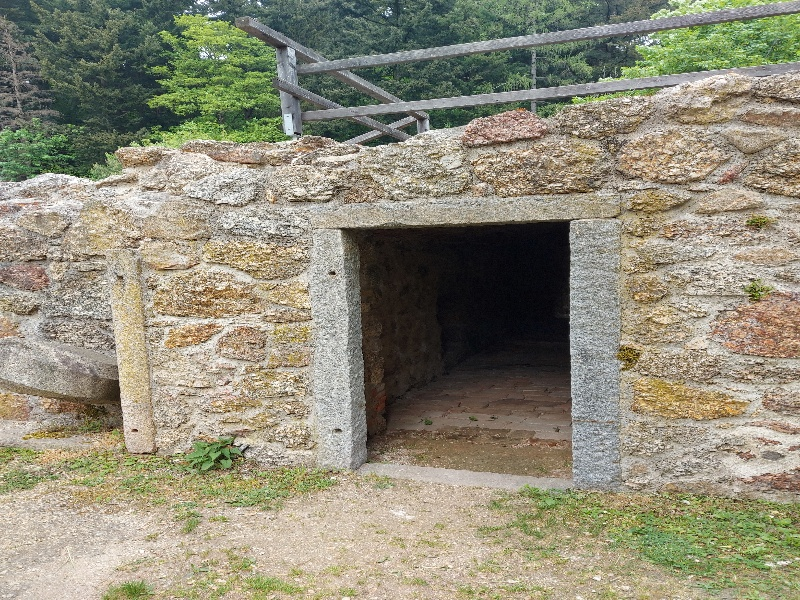door2: (300, 185, 643, 504)
